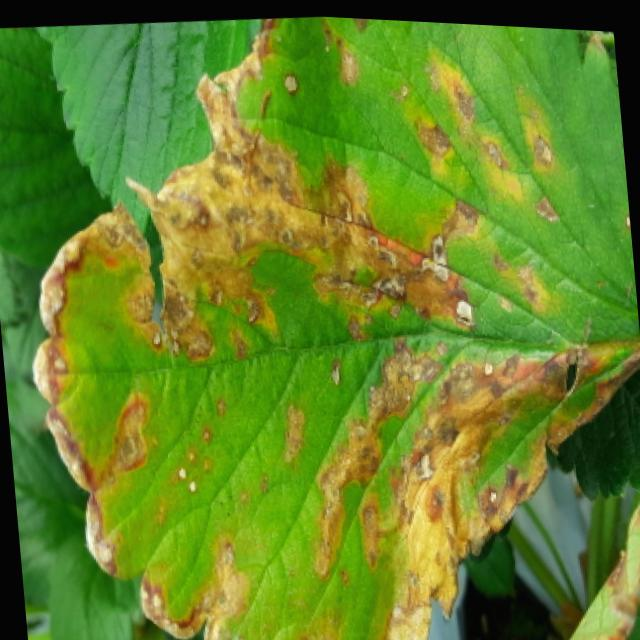Angular Leafspot: (31, 12, 640, 640), (562, 492, 640, 640)
